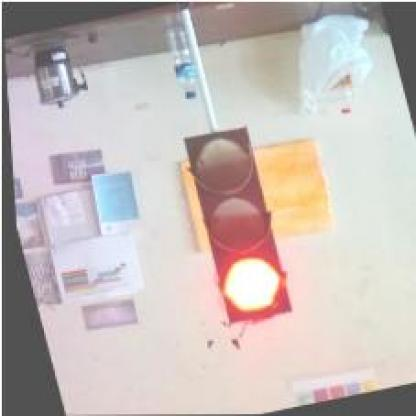red: (179, 123, 290, 324)
